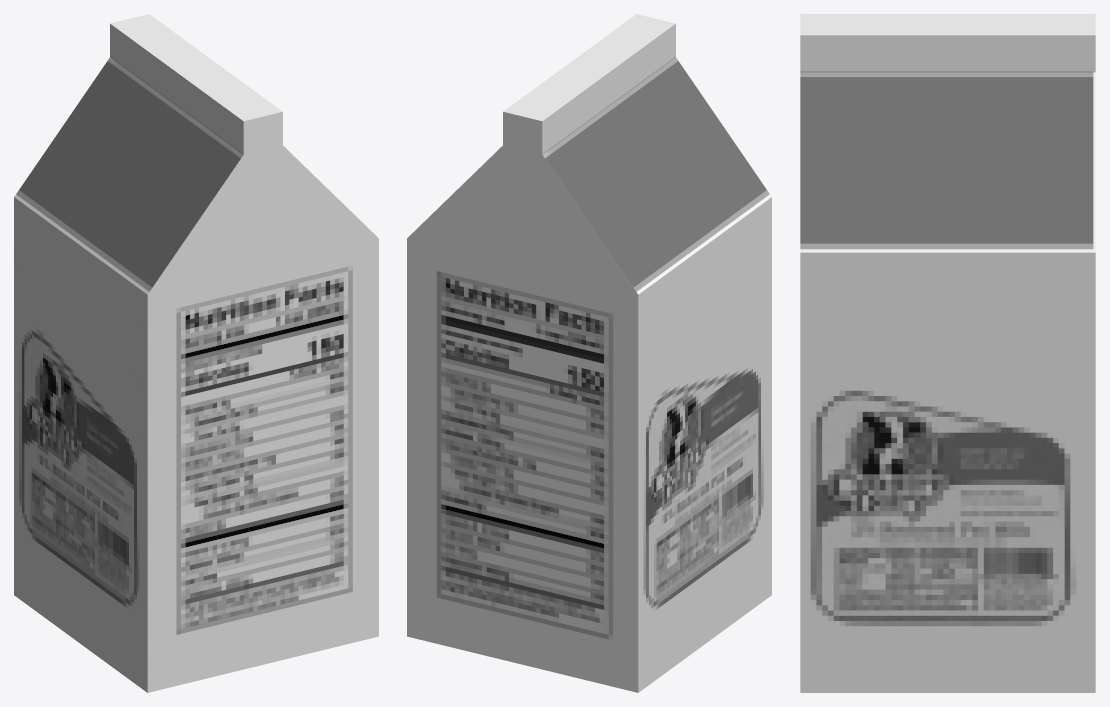
File: MilkLowPoly.fbx
3 renders of one model, left to right at view 1: azimuth 30°, elevation 25°; view 2: azimuth 150°, elevation 25°; view 3: azimuth 270°, elevation 25°, orthographic. The views are drawn at different scales.
Visible parts, largest first — view 1: Cube; view 2: Cube; view 3: Cube.
Part boxes in pixels (x1=…): Cube: x1=14, y1=14, x2=378, y2=692; Cube: x1=407, y1=14, x2=771, y2=692; Cube: x1=800, y1=14, x2=1095, y2=692.
Bounding box in the file's own units: 118 × 267 × 118.
1 material, 1 textured.
